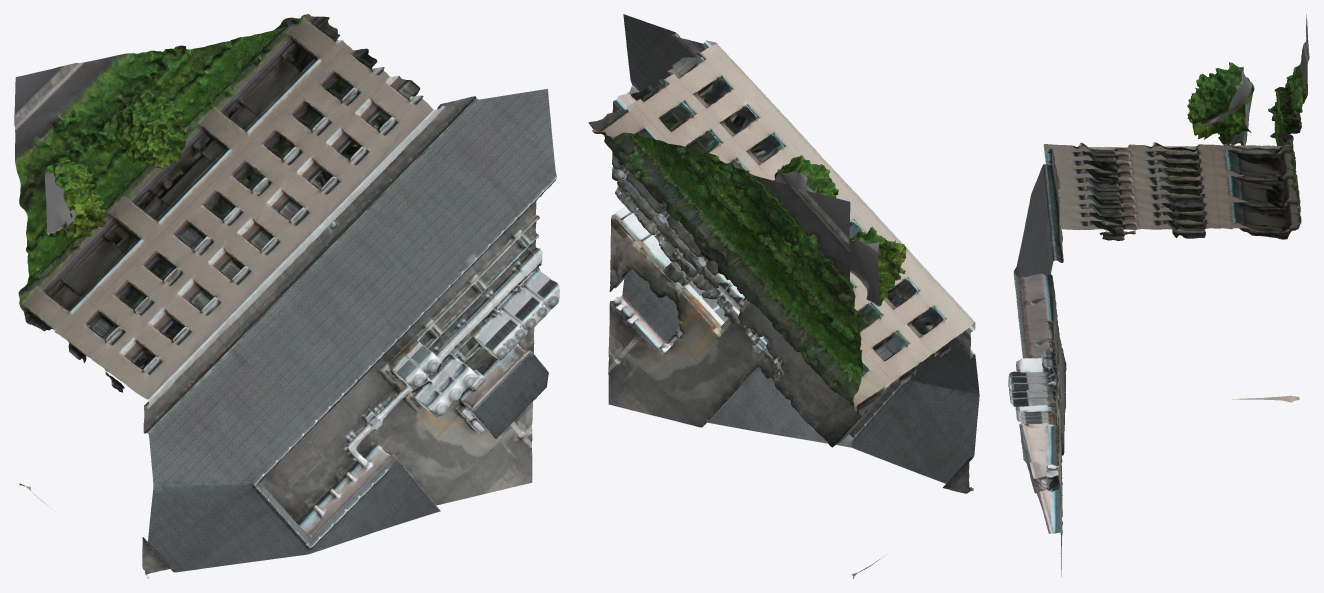
The model's file is Tile_+005_+011.fbx.
The picture shows the model from 3 angles, left to right: view 1: azimuth 30°, elevation 25°; view 2: azimuth 150°, elevation 25°; view 3: azimuth 270°, elevation 25°; orthographic projection. The views are drawn at different scales.
Visible parts, largest first — view 1: DefaultName; view 2: DefaultName; view 3: DefaultName.
Boxes of the visible parts, bbox=[...] form: DefaultName: bbox=[14, 14, 559, 578]; DefaultName: bbox=[588, 14, 979, 578]; DefaultName: bbox=[1008, 14, 1309, 576].
Bounding box in the file's own units: 22.54 × 22.54 × 15.96.
